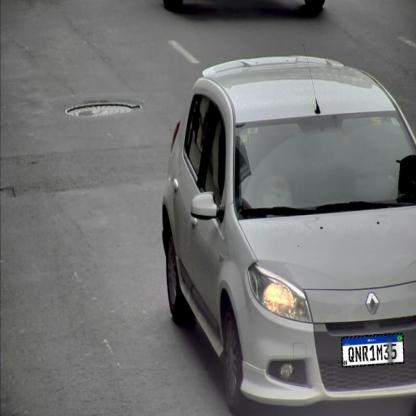PlacaM: (341, 333, 405, 367)
